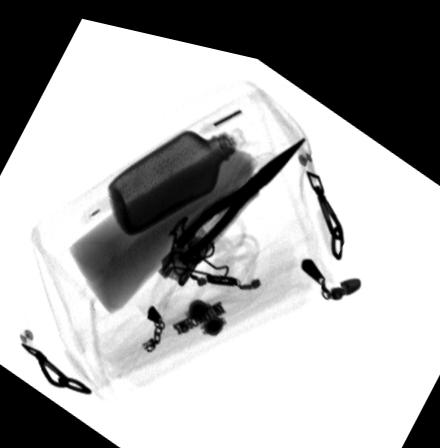Pliers: (173, 119, 309, 260)
